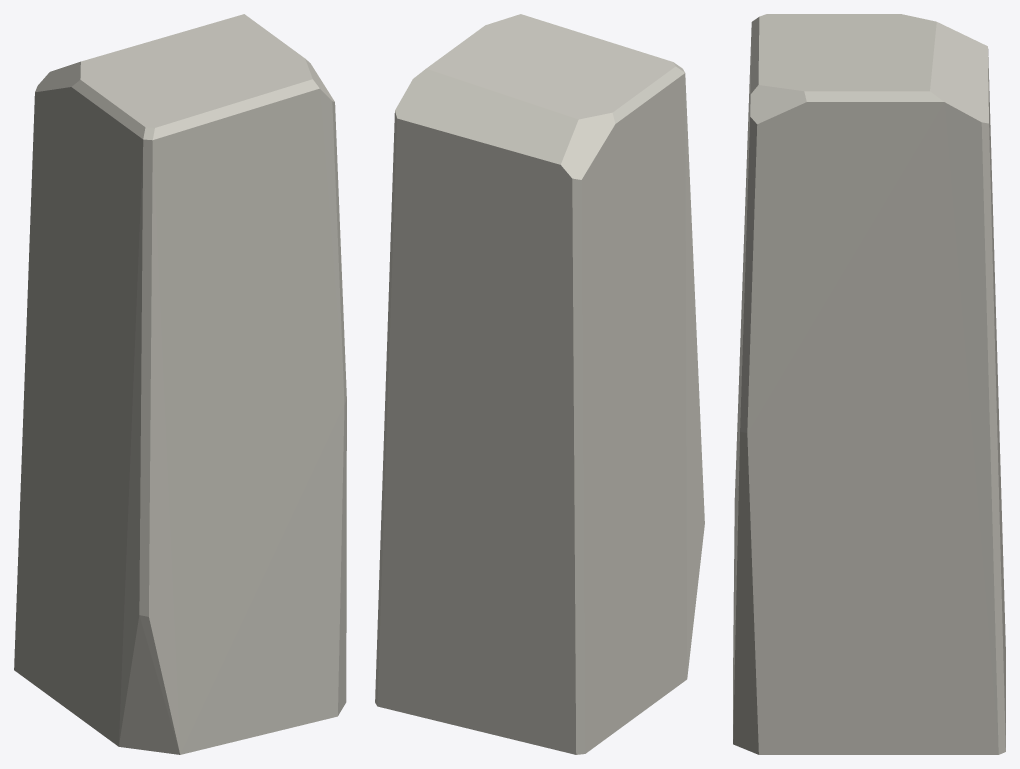
File: Rock_Square_l_03 2.fbx
The picture shows the model from 3 angles, left to right: view 1: azimuth 30°, elevation 25°; view 2: azimuth 150°, elevation 25°; view 3: azimuth 270°, elevation 25°; orthographic projection. The views are drawn at different scales.
Parts seen in each view (by area): view 1: Rock_Square_l_03; view 2: Rock_Square_l_03; view 3: Rock_Square_l_03.
Part boxes in pixels (box(x1,y1,x2,y2)): Rock_Square_l_03: box(14, 14, 346, 754); Rock_Square_l_03: box(375, 14, 704, 754); Rock_Square_l_03: box(733, 14, 1005, 754).
Bounding box in the file's own units: 137 × 384 × 145.
